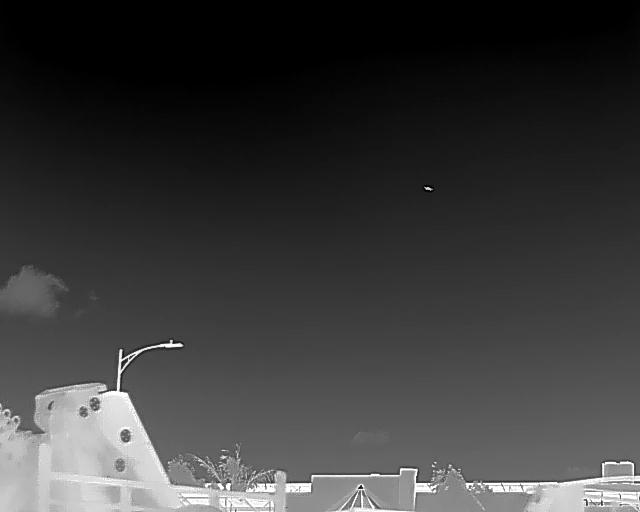fpv-drone: (423, 186, 433, 191)
